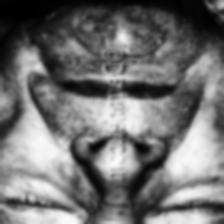Non-Cancerous Skin Condition: (0, 62, 90, 176), (164, 57, 224, 156), (52, 0, 188, 42)
